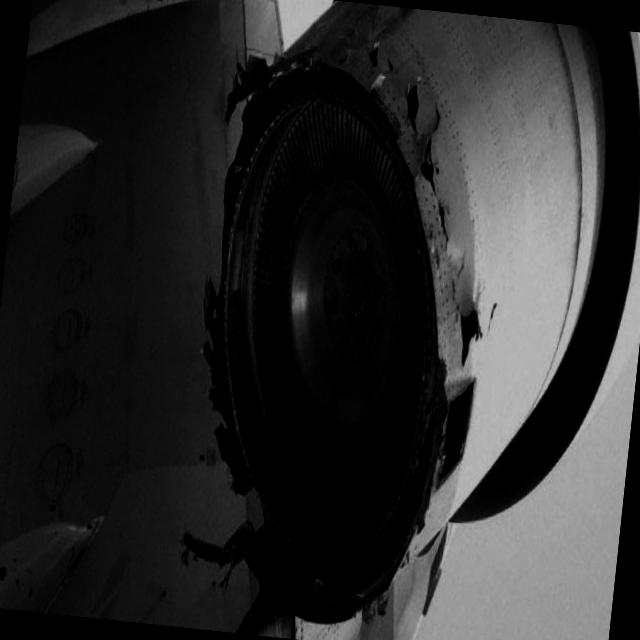crack: (340, 43, 514, 372)
